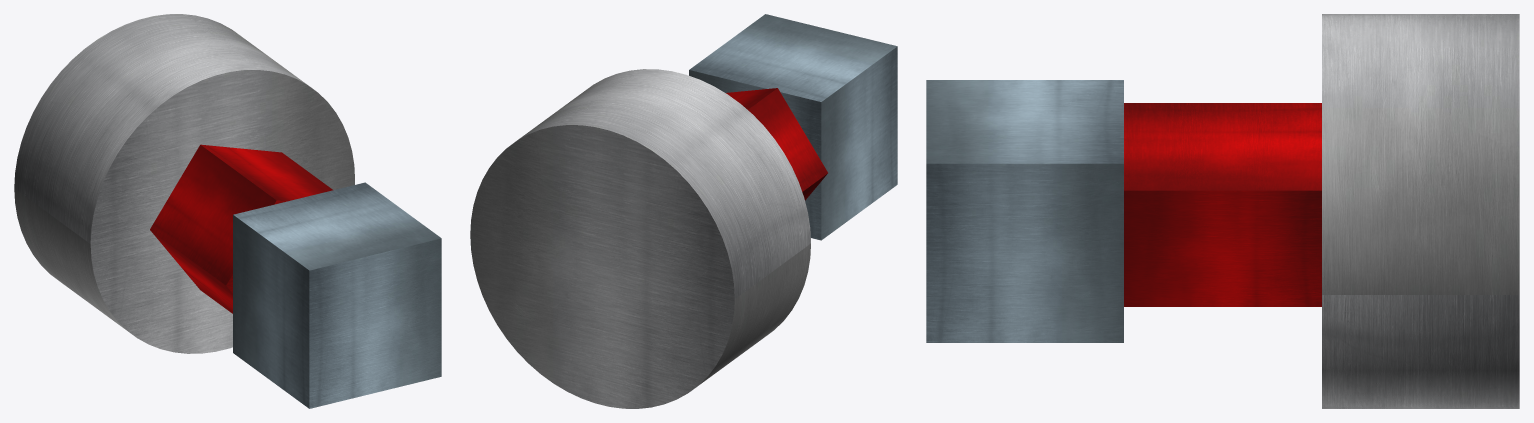
File: GlennBrakhop.gltf
The picture shows the model from 3 angles, left to right: view 1: azimuth 30°, elevation 25°; view 2: azimuth 150°, elevation 25°; view 3: azimuth 270°, elevation 25°; orthographic projection. The views are drawn at different scales.
Visible parts, largest first — view 1: mesh13_mesh, mesh13_mesh_1, mesh0_mesh_4, mesh0_mesh_1, mesh0_mesh, mesh6_mesh_5, mesh13_mesh_2, mesh6_mesh_4, mesh6_mesh_6; view 2: mesh13_mesh_3, mesh13_mesh_1, mesh0_mesh_1, mesh0_mesh, mesh13_mesh_2, mesh6_mesh_5, mesh0_mesh_5, mesh6_mesh_4; view 3: mesh13_mesh_1, mesh0_mesh_3, mesh6_mesh_1, mesh13_mesh_2, mesh6_mesh_4, mesh0_mesh.
Boxes of the visible parts, <box> form: mesh13_mesh: <box>90,70,354,353</box>; mesh13_mesh_1: <box>14,14,306,243</box>; mesh0_mesh_4: <box>309,238,441,408</box>; mesh0_mesh_1: <box>233,215,309,408</box>; mesh0_mesh: <box>233,182,440,270</box>; mesh6_mesh_5: <box>150,145,276,285</box>; mesh13_mesh_2: <box>14,188,128,331</box>; mesh6_mesh_4: <box>201,144,333,201</box>; mesh6_mesh_6: <box>150,230,232,313</box>; mesh13_mesh_3: <box>470,125,734,408</box>; mesh13_mesh_1: <box>518,69,810,298</box>; mesh0_mesh_1: <box>821,46,897,240</box>; mesh0_mesh: <box>689,14,897,101</box>; mesh13_mesh_2: <box>696,244,810,387</box>; mesh6_mesh_5: <box>748,88,827,191</box>; mesh0_mesh_5: <box>689,70,821,240</box>; mesh6_mesh_4: <box>726,88,777,109</box>; mesh13_mesh_1: <box>1322,14,1519,294</box>; mesh0_mesh_3: <box>926,163,1123,342</box>; mesh6_mesh_1: <box>1124,190,1321,306</box>; mesh13_mesh_2: <box>1322,295,1519,408</box>; mesh6_mesh_4: <box>1124,103,1321,190</box>; mesh0_mesh: <box>926,80,1123,163</box>.
Size of the model in its own units: 0.0508 by 0.0507 by 0.0762.
Materials: 3 (3 with a texture image).
